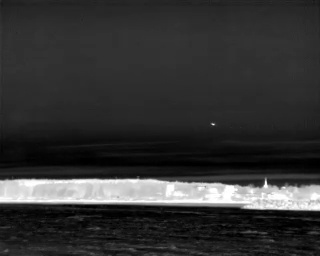BIRD: (209, 120, 217, 128)
